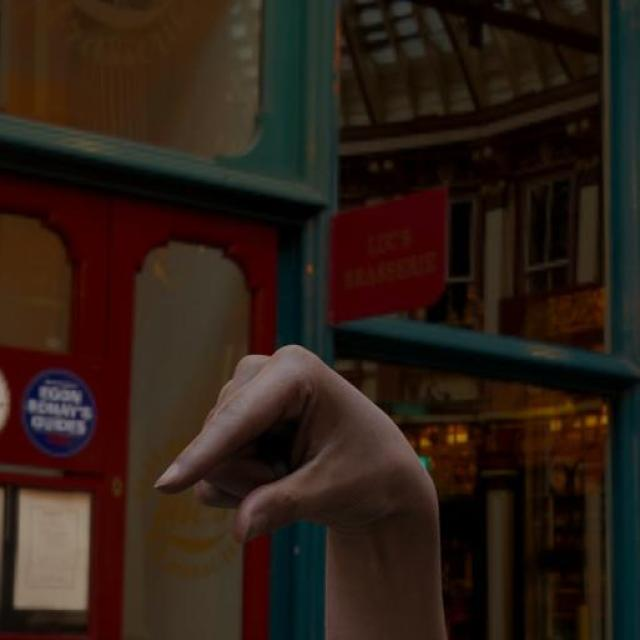Q: (148, 337, 452, 552)
